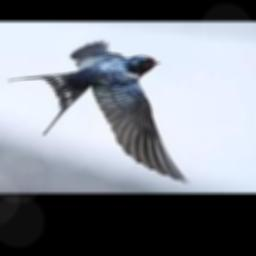Swallow: (8, 40, 191, 185)
